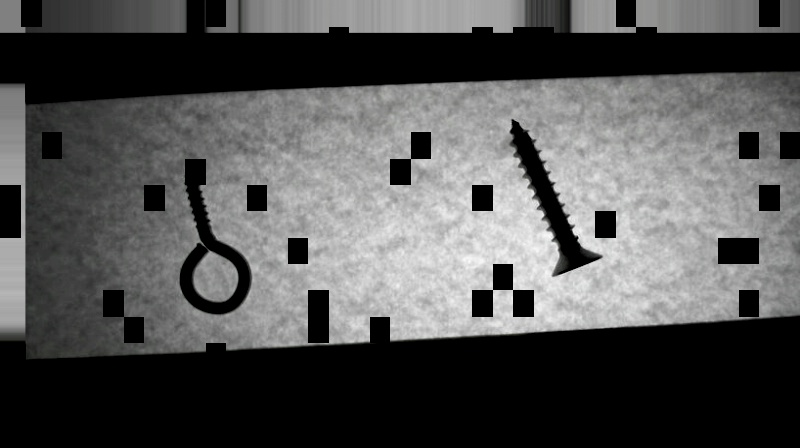O001: (175, 167, 255, 318)
S001: (505, 115, 609, 277)
